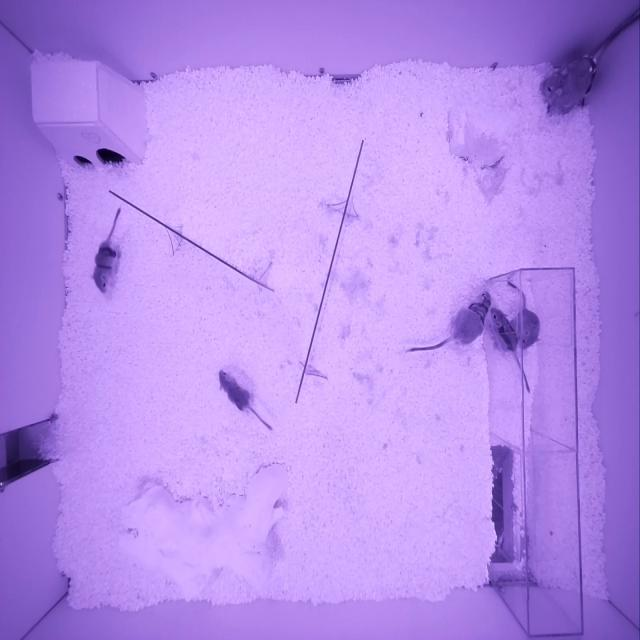adult_back: (540, 54, 597, 110)
adult_front: (452, 291, 491, 344)
pup_fluffy: (510, 308, 542, 349)
pup_h_stripe: (90, 240, 120, 294)
pup_spotted: (218, 369, 253, 410)
pup_v_stripe: (490, 307, 518, 355)
